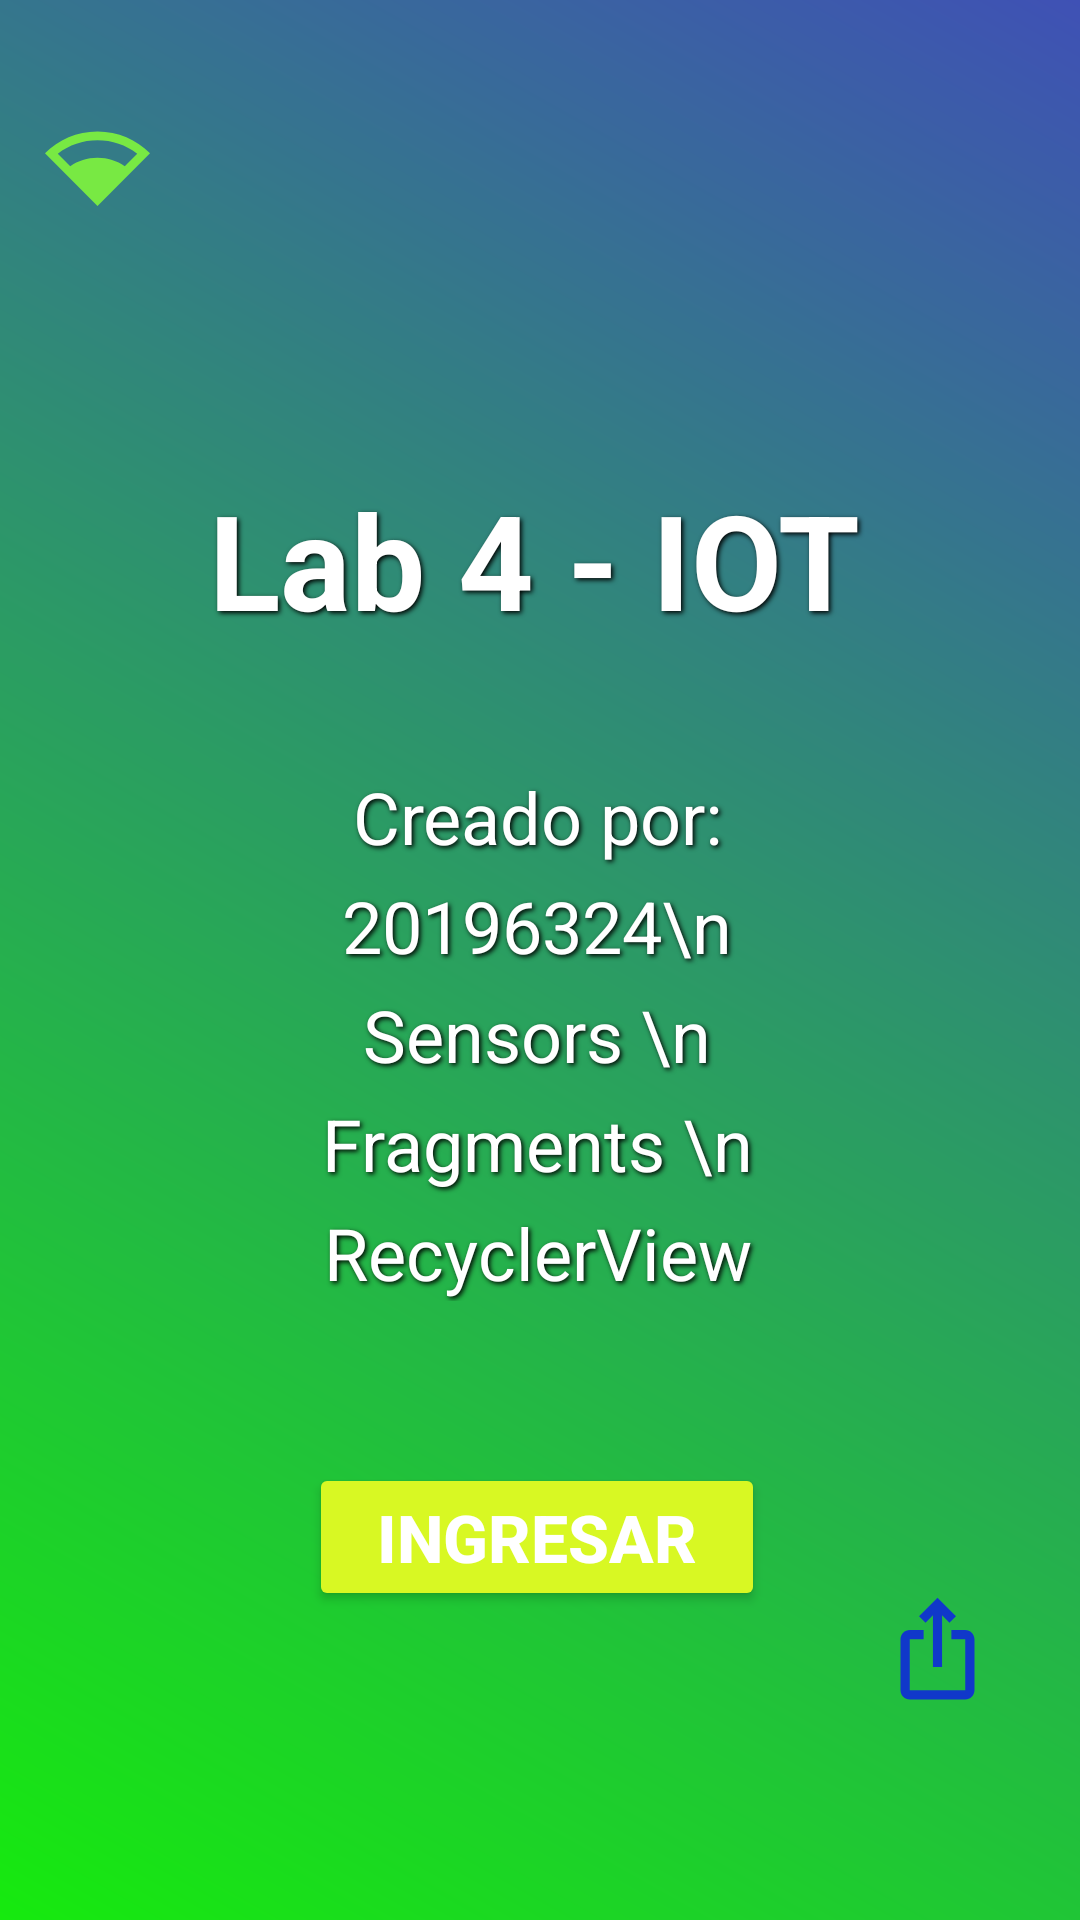

Locate icon controls on the screen. Image size 1080x1920, boxes as (x1, y1, x2, y2).
share: (882, 1598, 993, 1785)
